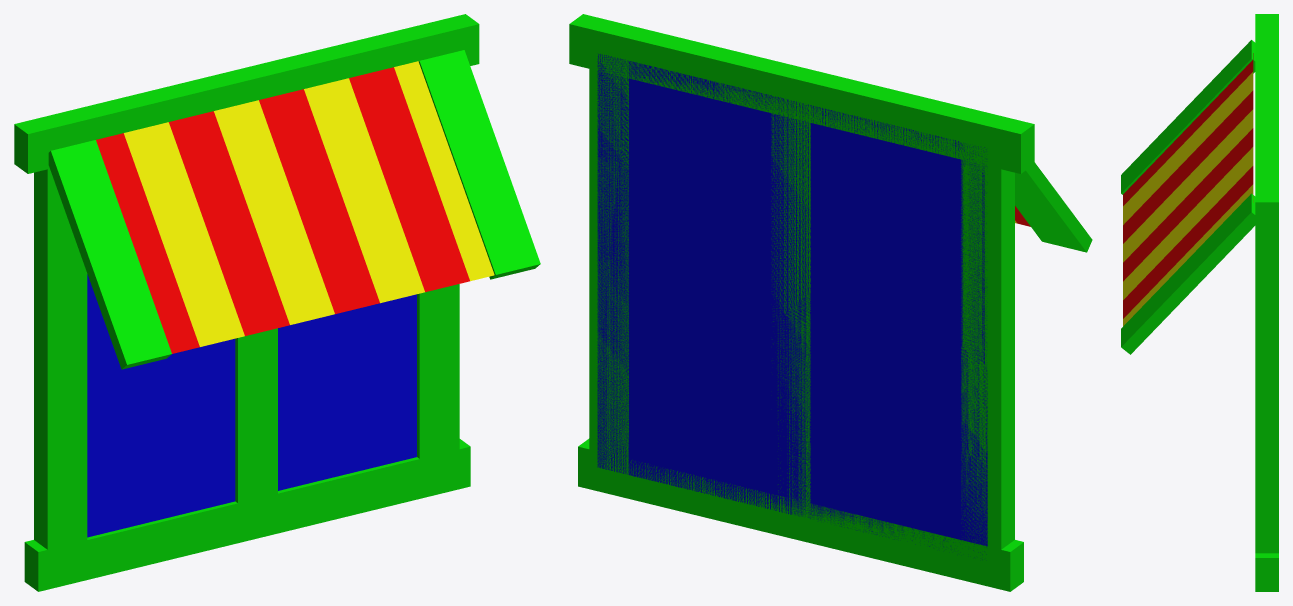
Rendered from Mini_ShopWindow.fbx.
3 renders of one model, left to right at view 1: azimuth 30°, elevation 25°; view 2: azimuth 150°, elevation 25°; view 3: azimuth 270°, elevation 25°, orthographic. The views are drawn at different scales.
Visible parts, largest first — view 1: polySurface150; view 2: polySurface150; view 3: polySurface150.
Part boxes in pixels (x1,y1,x2,y2): polySurface150: (14, 14, 540, 591); polySurface150: (569, 14, 1092, 591); polySurface150: (1121, 14, 1278, 591).
Bounding box in the file's own units: 4.95 × 4.82 × 1.75.
